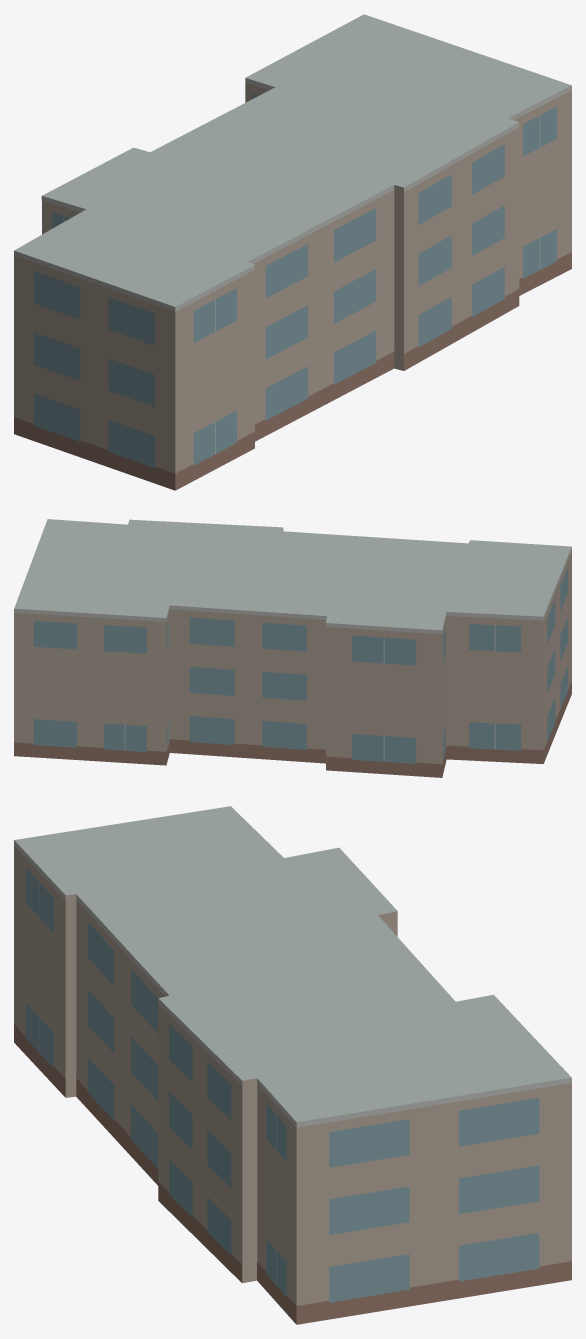
The model's file is survey-upis-32841100.glb.
3 renders of one model, top to bottom at view 1: azimuth 30°, elevation 25°; view 2: azimuth 150°, elevation 25°; view 3: azimuth 270°, elevation 25°, orthographic. The views are drawn at different scales.
Visible parts, largest first — view 1: survey-upis-32841100.tmp; view 2: survey-upis-32841100.tmp; view 3: survey-upis-32841100.tmp.
Boxes of the visible parts, box(x1,y1,x2,y2) form: survey-upis-32841100.tmp: box(14, 14, 571, 490); survey-upis-32841100.tmp: box(14, 519, 571, 777); survey-upis-32841100.tmp: box(14, 806, 571, 1324).
Bounding box in the file's own units: 30.66 × 9.15 × 22.86.
